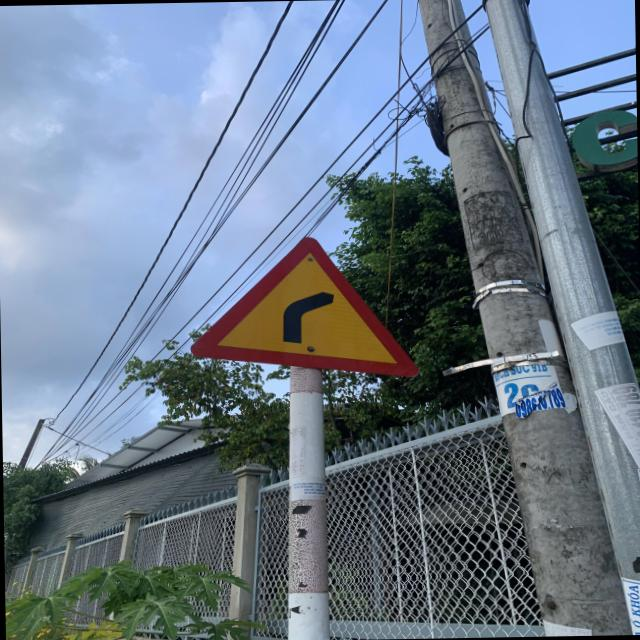Duong_Nguoi_Di_Bo_Cat_Ngang: (191, 235, 413, 382)
